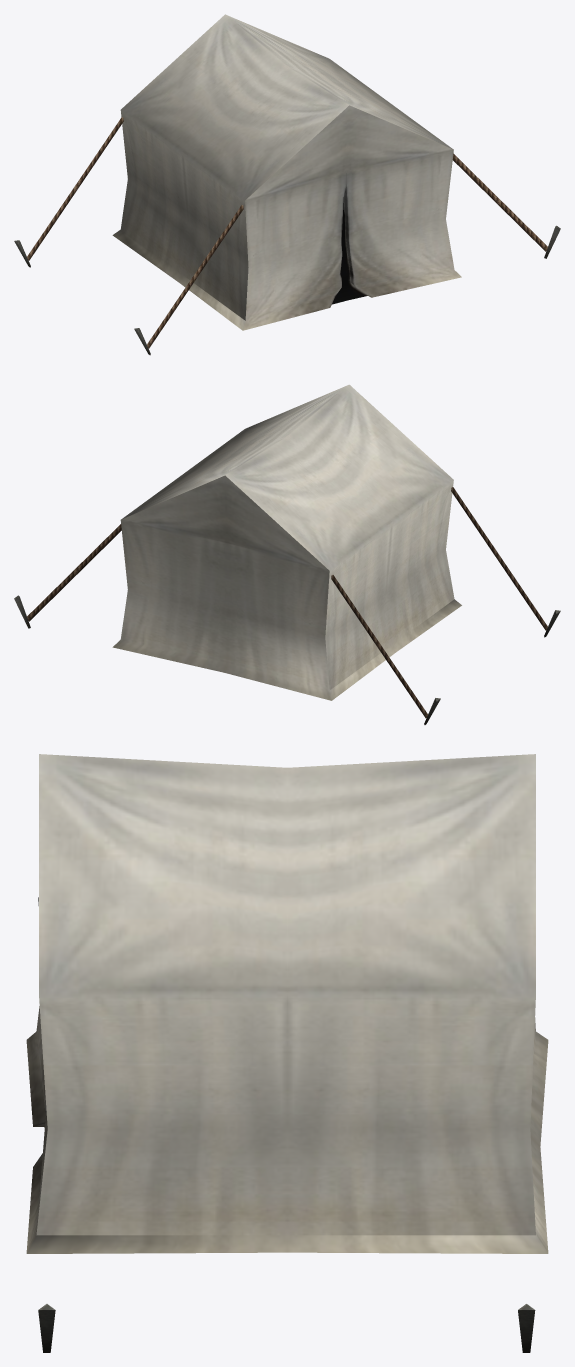
Rendered from pir_m_prp_frt_tent_navy.fbx.
The picture shows the model from 3 angles, top to bottom: view 1: azimuth 30°, elevation 25°; view 2: azimuth 150°, elevation 25°; view 3: azimuth 270°, elevation 25°; orthographic projection. The views are drawn at different scales.
Parts seen in each view (by area): view 1: tent, ropeBack03, ropeBack04, ropeBack01; view 2: tent, ropeBack04, ropeBack02, ropeBack03; view 3: tent.
Boxes of the visible parts, box(x1,y1,x2,y2) form: tent: box(112, 14, 461, 330); ropeBack03: box(147, 205, 243, 348); ropeBack04: box(27, 117, 123, 260); ropeBack01: box(452, 153, 547, 251); tent: box(112, 384, 461, 700); ropeBack04: box(331, 575, 427, 718); ropeBack02: box(27, 524, 121, 621); ropeBack03: box(453, 487, 547, 630); tent: box(26, 754, 548, 1253).
Size of the model in its own units: 2132 by 977 by 1140.
1 material, 1 textured.
